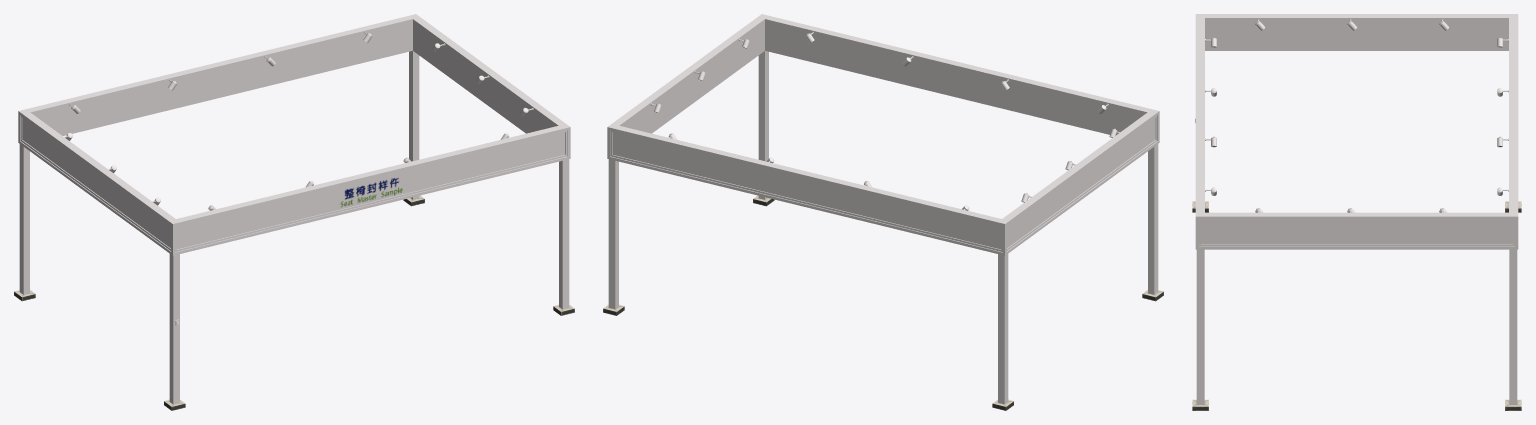
Rendered from YF_Model_zuoqi02.FBX.
The picture shows the model from 3 angles, left to right: view 1: azimuth 30°, elevation 25°; view 2: azimuth 150°, elevation 25°; view 3: azimuth 270°, elevation 25°; orthographic projection. The views are drawn at different scales.
Visible parts, largest first — view 1: Box003; view 2: Box003; view 3: Box003.
Part boxes in pixels (x1=…): Box003: x1=14, y1=14, x2=574, y2=410; Box003: x1=603, y1=14, x2=1163, y2=410; Box003: x1=1192, y1=14, x2=1521, y2=410.
Bounding box in the file's own units: 797 × 351 × 540.
1 material, 1 textured.
